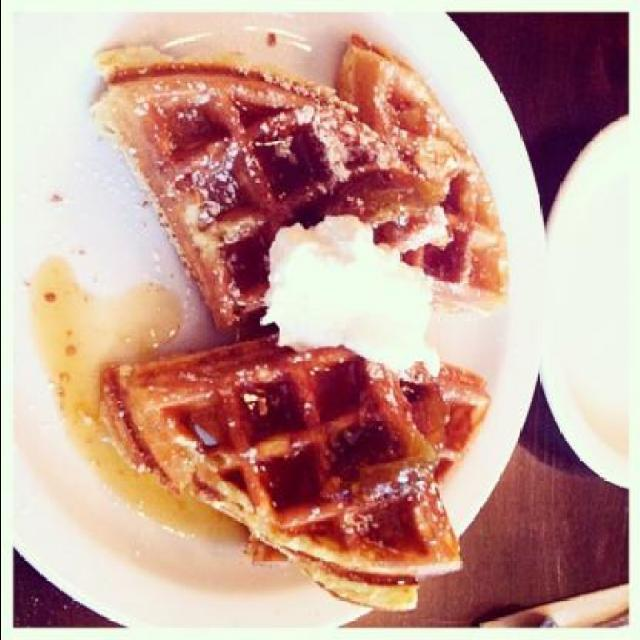Waffle: (86, 44, 452, 333), (84, 325, 467, 581), (241, 357, 499, 617), (330, 29, 510, 318)
